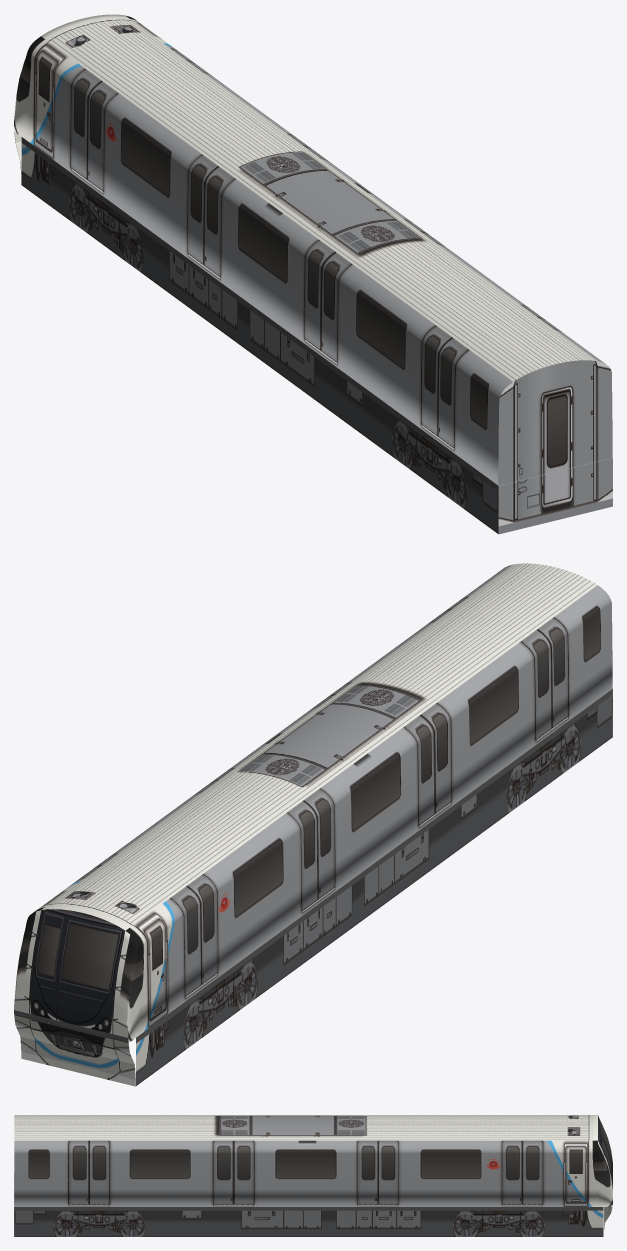
The model's file is car8.glb.
3 views of the same model, one above another, from view 1: azimuth 30°, elevation 25°; view 2: azimuth 150°, elevation 25°; view 3: azimuth 270°, elevation 25° (orthographic). The views are drawn at different scales.
Visible parts, largest first — view 1: tokyu-3020-car8; view 2: tokyu-3020-car8; view 3: tokyu-3020-car8.
Part boxes in pixels (left/top/right/bottom): tokyu-3020-car8: left=14, top=14, right=612, bottom=534; tokyu-3020-car8: left=14, top=563, right=612, bottom=1086; tokyu-3020-car8: left=14, top=1115, right=612, bottom=1236.
Bounding box in the file's own units: 2.79 × 3.64 × 20.48.
Materials: 9 (8 with a texture image).
